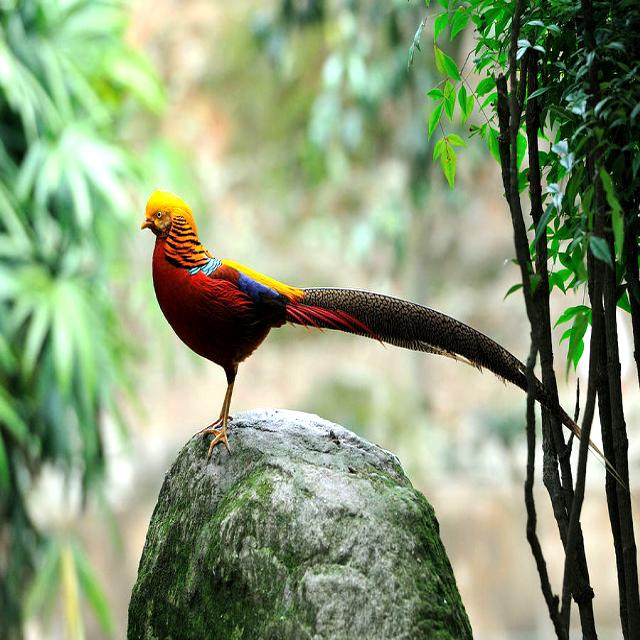Chrysolophus pictus feather: (299, 288, 527, 390)
